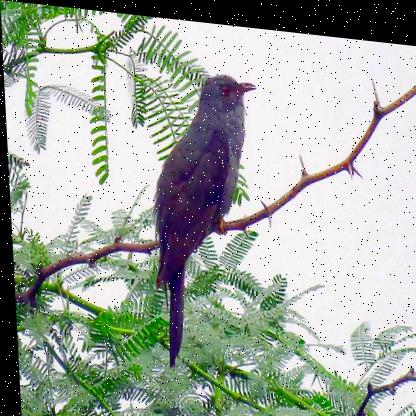Burung: (143, 62, 266, 375)
